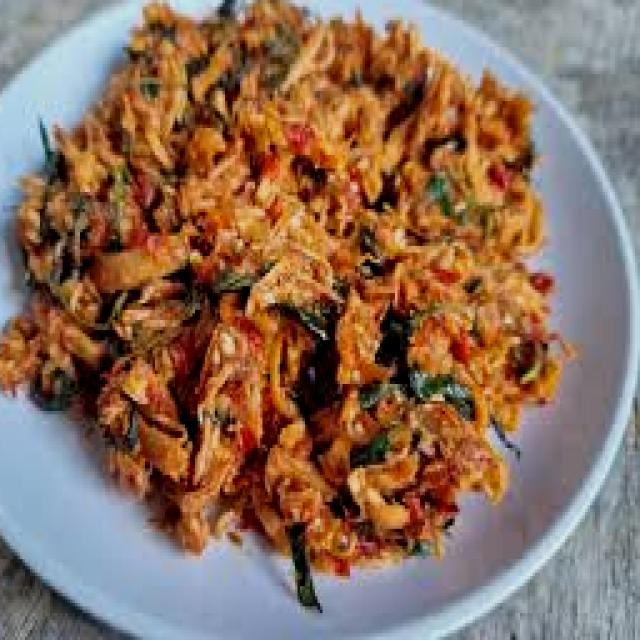ayam_suwir: (10, 0, 558, 559)
